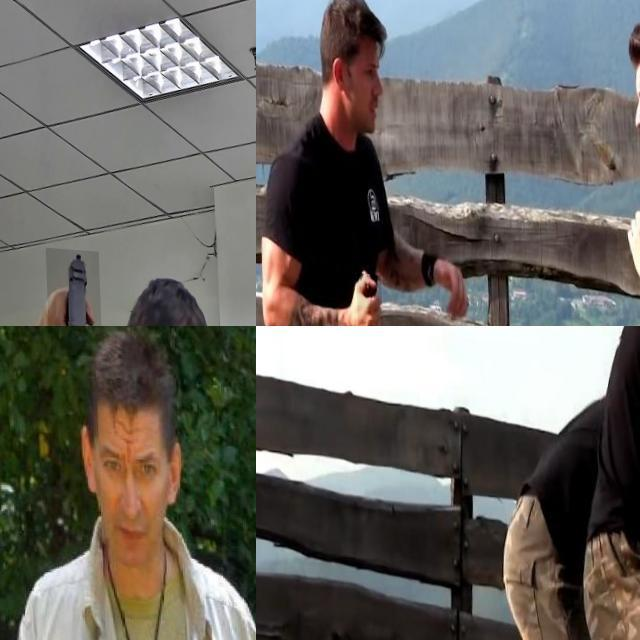-: (353, 268, 382, 326)
gun-knife-thesis - v11 Yolov5 augmented: (43, 246, 101, 326)
